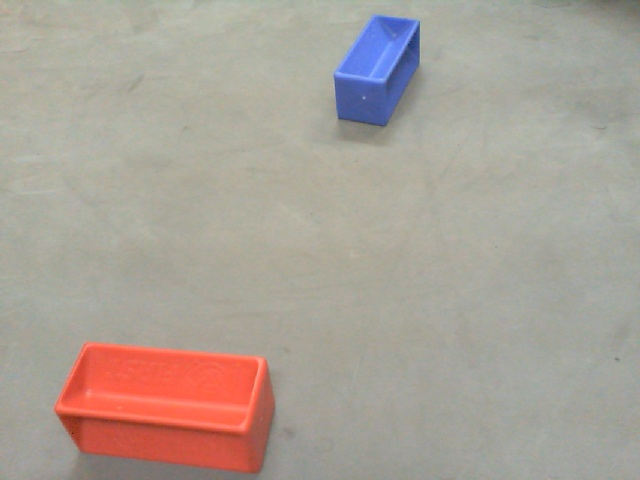BlueSample: (330, 10, 421, 131)
RedSample: (52, 338, 278, 467)
